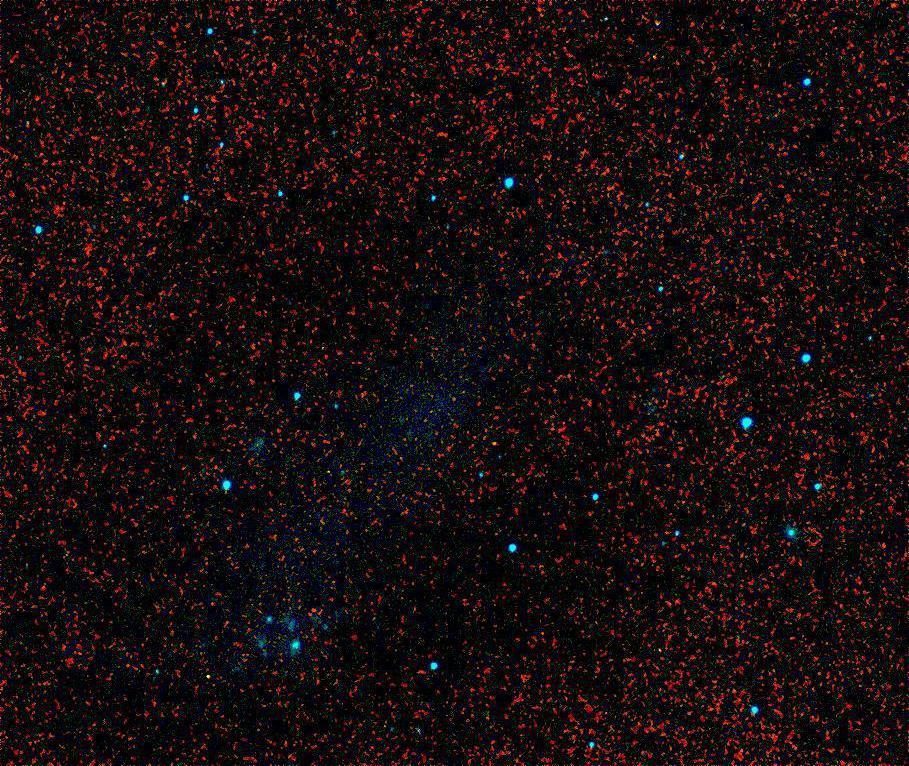star: (441, 382, 471, 412)
